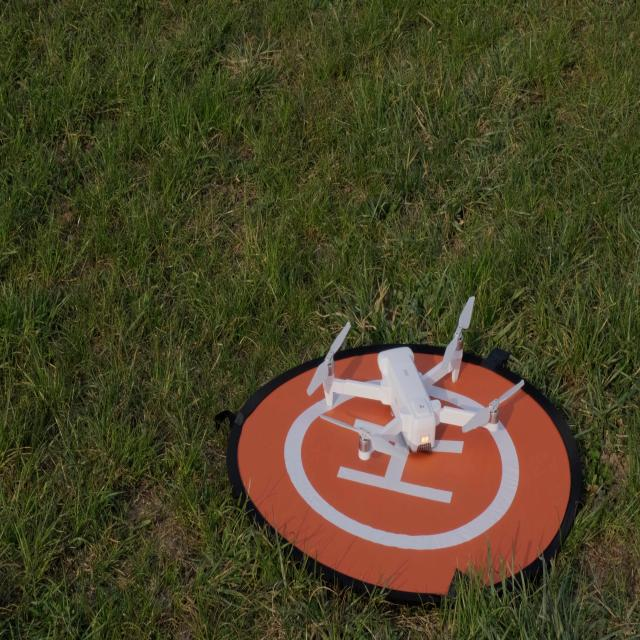drone: (306, 294, 525, 462)
